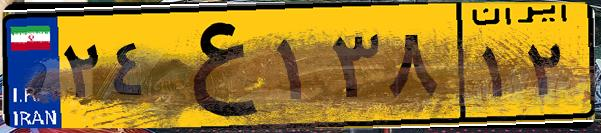1: (270, 28, 330, 110), (475, 38, 525, 113)
2: (57, 26, 110, 100), (525, 38, 570, 115)
3: (330, 28, 385, 110)
4: (110, 28, 158, 98)
8: (385, 28, 445, 110)
ع: (158, 12, 270, 120)
